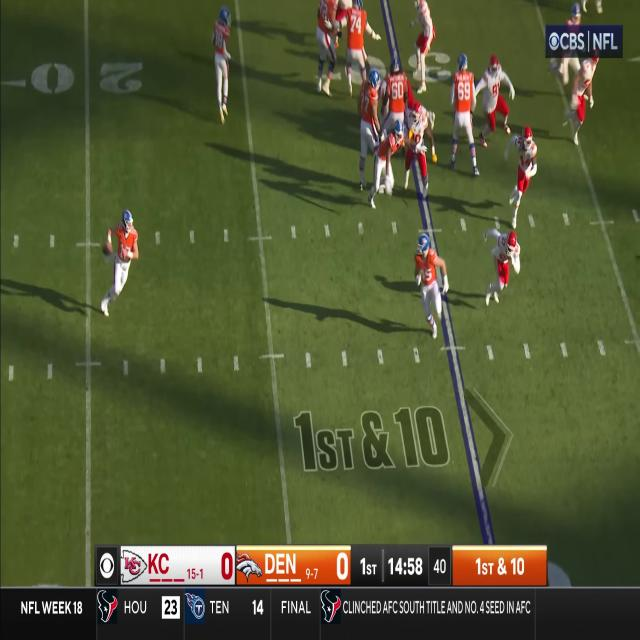Player: (102, 209, 140, 317), (451, 55, 477, 176), (404, 102, 434, 201), (508, 126, 536, 230), (415, 234, 442, 340), (372, 121, 404, 207), (481, 54, 510, 144), (486, 231, 520, 307), (567, 57, 597, 143), (360, 70, 380, 192), (315, 0, 340, 95), (212, 8, 232, 124), (411, 0, 434, 93), (347, 1, 366, 91), (385, 55, 407, 122)
